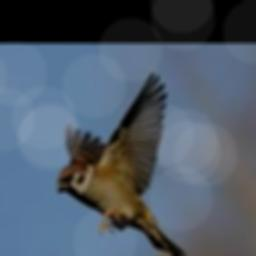Sparrow: (57, 72, 185, 256)
